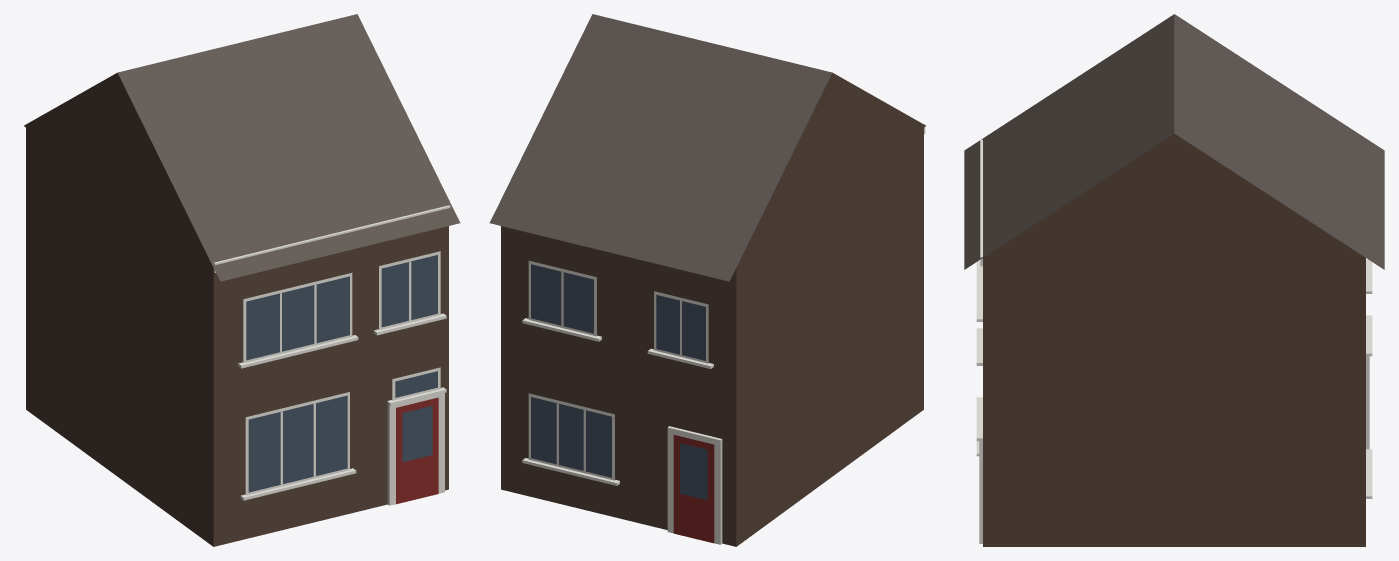
Rendered from nd-to-row__wide__2__gable__long__solid__f0d0__mirror.glb.
3 renders of one model, left to right at view 1: azimuth 30°, elevation 25°; view 2: azimuth 150°, elevation 25°; view 3: azimuth 270°, elevation 25°, orthographic. The views are drawn at different scales.
Visible parts, largest first — view 1: nd-to-row__wide__2__gable__long__solid__f0d0__mirror; view 2: nd-to-row__wide__2__gable__long__solid__f0d0__mirror; view 3: nd-to-row__wide__2__gable__long__solid__f0d0__mirror.
Boxes of the visible parts, box(x1,y1,x2,y2) form: nd-to-row__wide__2__gable__long__solid__f0d0__mirror: box(24, 14, 460, 546); nd-to-row__wide__2__gable__long__solid__f0d0__mirror: box(489, 14, 925, 546); nd-to-row__wide__2__gable__long__solid__f0d0__mirror: box(964, 14, 1384, 546).
Size of the model in its own units: 5.34 by 8.63 by 7.93.
